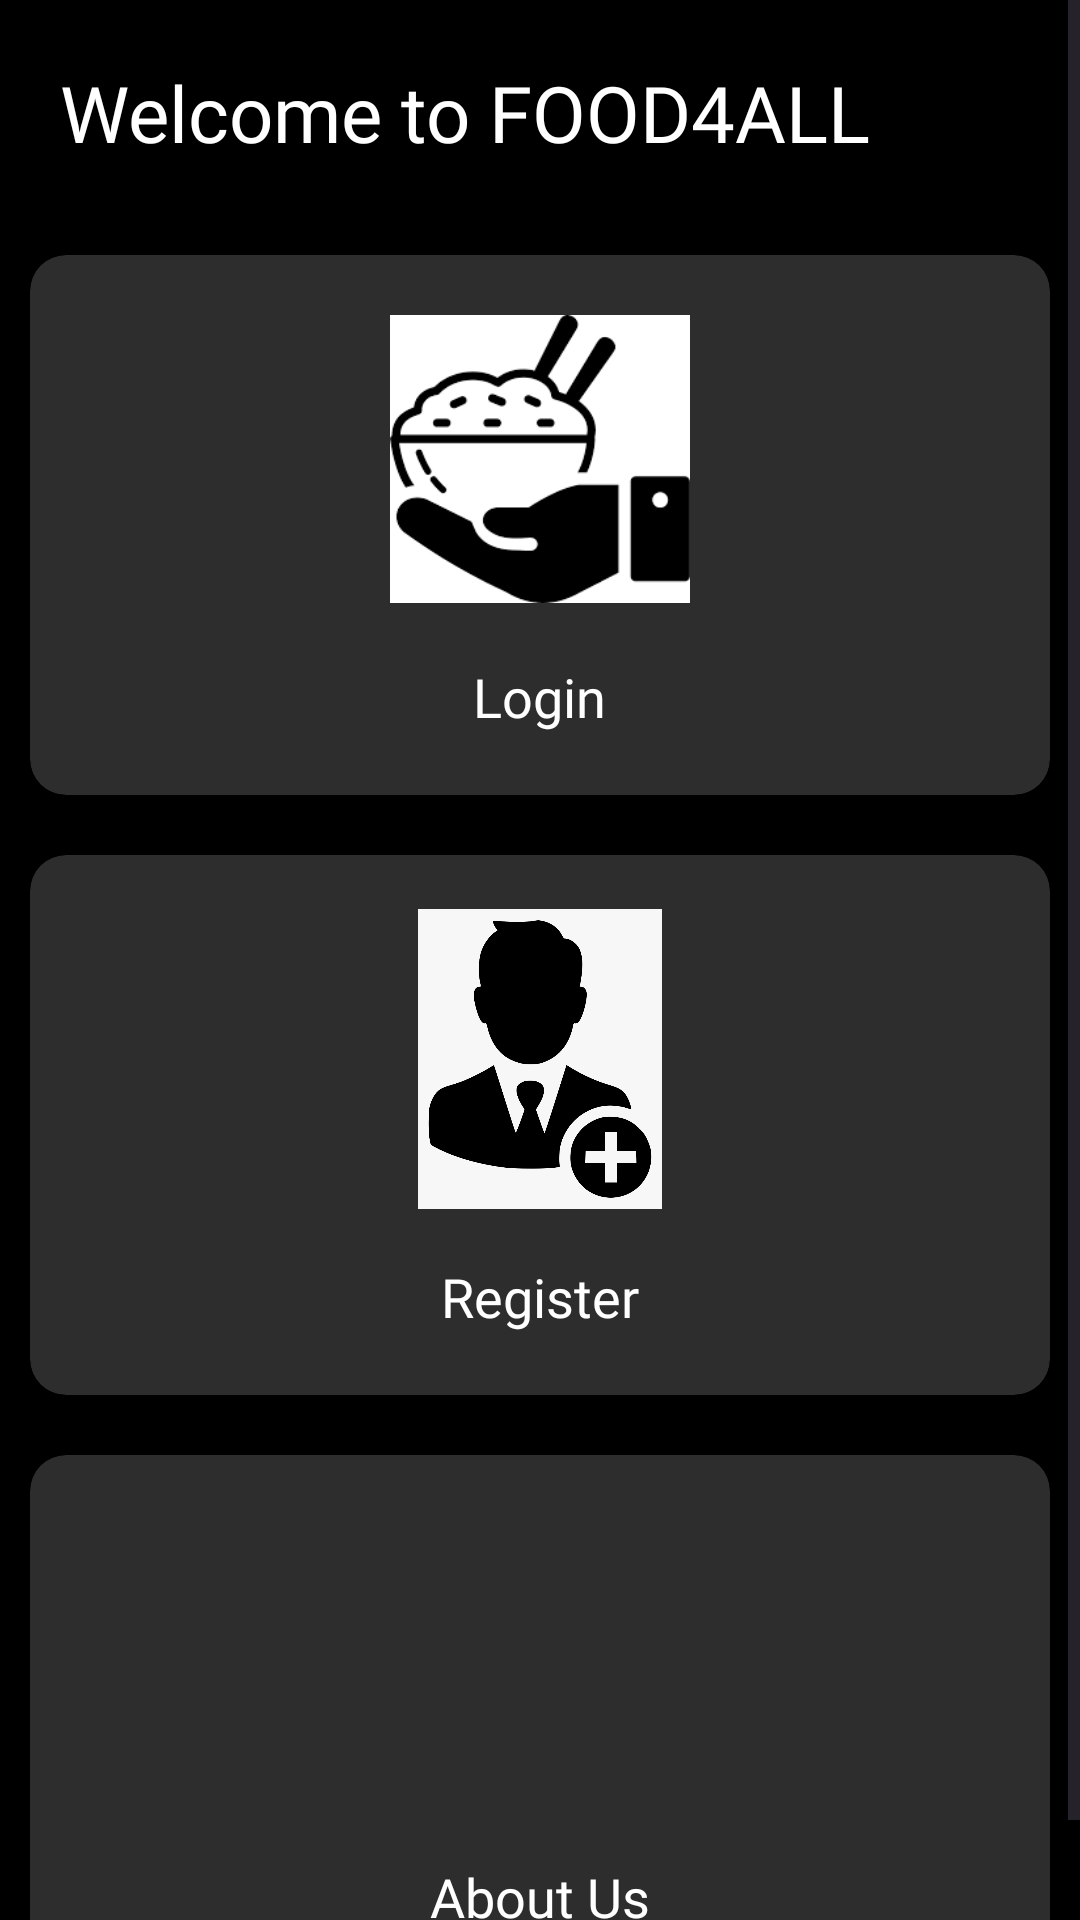

Where icons sit on this 1080×1920 app screen, as bbox(x1, y1, x2, y2):
add: bbox(418, 909, 662, 1209)
donate: bbox(390, 315, 690, 603)
